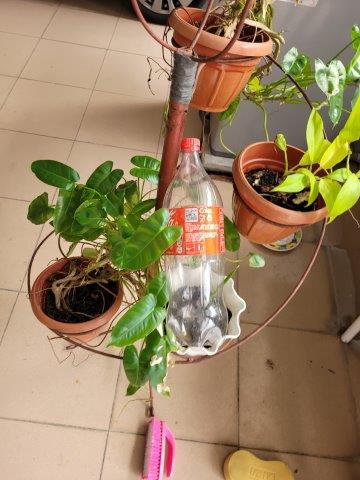botolplastik: (164, 136, 228, 354)
